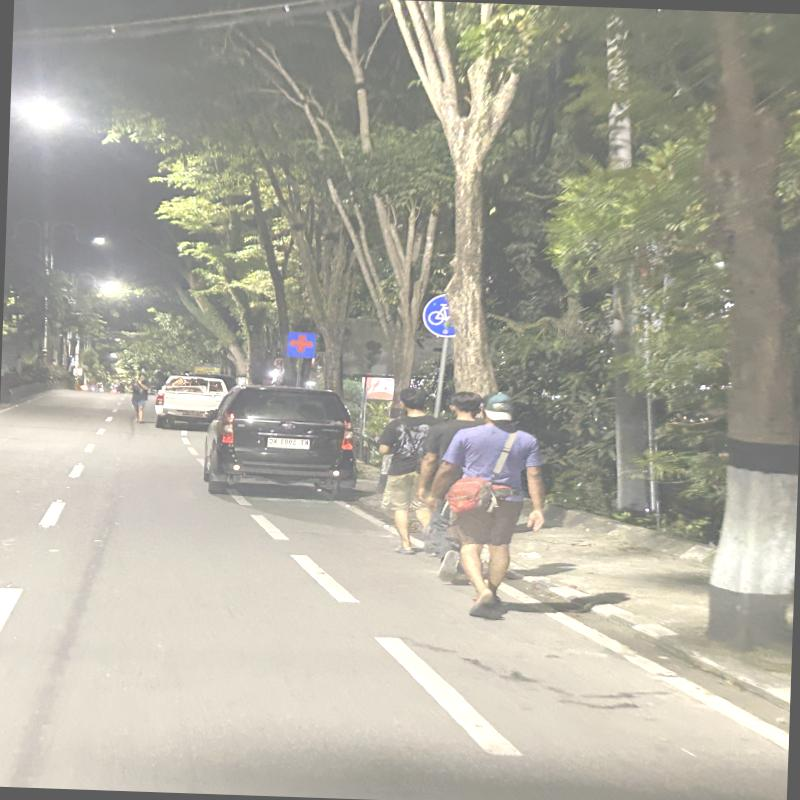license plate on a car: (266, 436, 310, 450), (181, 408, 202, 416)
